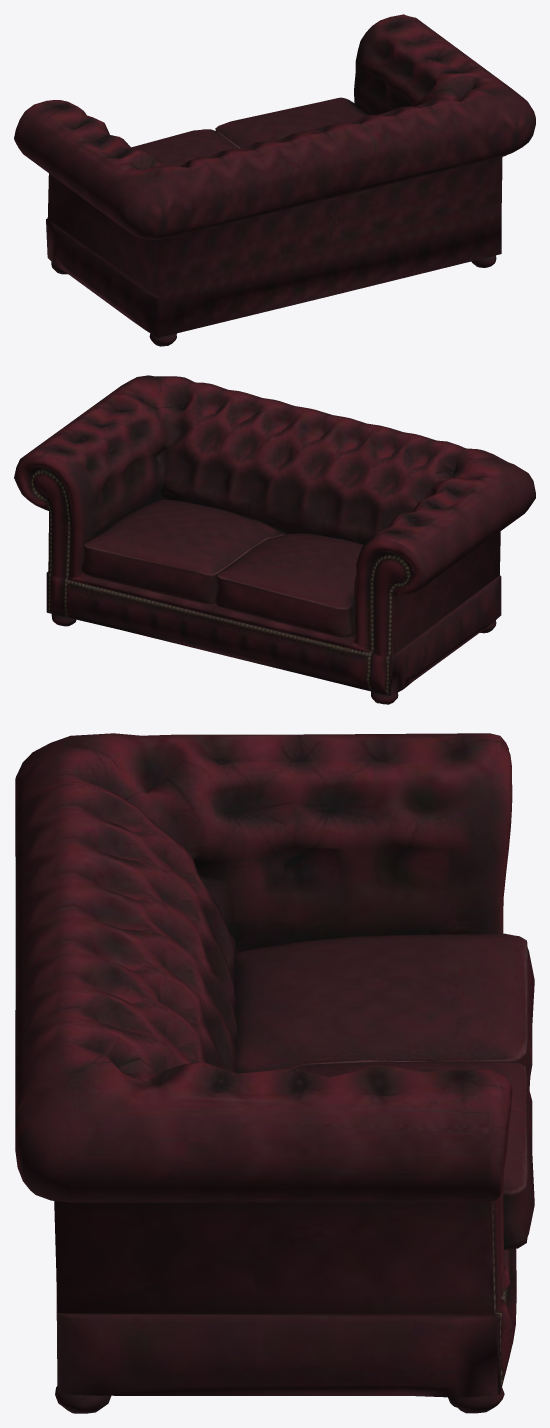
The model's file is office-chesterfield-sofa.glb.
3 renders of one model, top to bottom at view 1: azimuth 30°, elevation 25°; view 2: azimuth 150°, elevation 25°; view 3: azimuth 270°, elevation 25°, orthographic. The views are drawn at different scales.
Parts seen in each view (by area): view 1: chesterfield-sofa; view 2: chesterfield-sofa; view 3: chesterfield-sofa.
Part boxes in pixels (bbox=[...]): chesterfield-sofa: bbox=[14, 14, 535, 346]; chesterfield-sofa: bbox=[14, 375, 535, 704]; chesterfield-sofa: bbox=[15, 733, 534, 1413].
Size of the model in its own units: 2.1 by 0.8449 by 1.14.
Materials: 1 (1 with a texture image).
